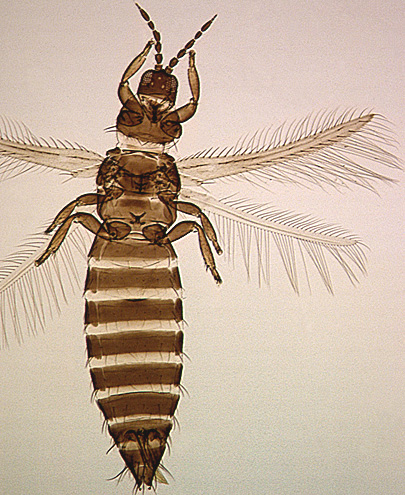Thripidae: (1, 1, 399, 491)
